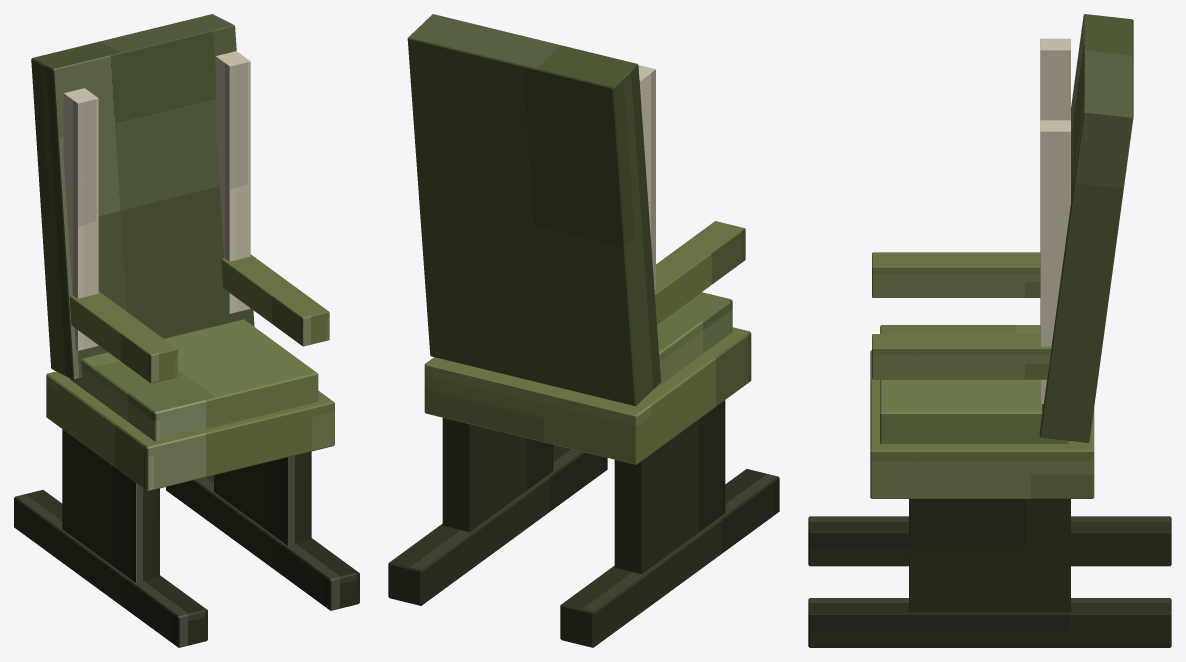
Rendered from mansion_rocking_chair.glb.
3 renders of one model, left to right at view 1: azimuth 30°, elevation 25°; view 2: azimuth 150°, elevation 25°; view 3: azimuth 270°, elevation 25°, orthographic. The views are drawn at different scales.
Parts seen in each view (by area): view 1: ChairBack, SeatCushion, Seat, Leg-0.25, Rocker-0.25, Rocker0.25, BackSlat0.25, BackSlat-0.25, Leg0.25, Arm0.25, Arm-0.25; view 2: ChairBack, Seat, Leg-0.25, Rocker-0.25, Rocker0.25, Leg0.25, Arm-0.25, SeatCushion, BackSlat-0.25; view 3: ChairBack, Leg0.25, Rocker0.25, Seat, SeatCushion, Rocker-0.25, Arm0.25, Arm-0.25, BackSlat0.25, BackSlat-0.25.
Boxes of the visible parts, left/top/right/bottom form: ChairBack: left=31, top=14, right=254, bottom=380; SeatCushion: left=69, top=319, right=318, bottom=441; Seat: left=46, top=371, right=334, bottom=491; Leg-0.25: left=62, top=429, right=159, bottom=582; Rocker-0.25: left=14, top=490, right=207, bottom=647; Rocker0.25: left=166, top=475, right=359, bottom=610; BackSlat0.25: left=215, top=51, right=250, bottom=313; BackSlat-0.25: left=63, top=88, right=98, bottom=350; Leg0.25: left=214, top=451, right=311, bottom=545; Arm0.25: left=221, top=254, right=329, bottom=346; Arm-0.25: left=69, top=291, right=177, bottom=383; ChairBack: left=407, top=14, right=660, bottom=406; Seat: left=424, top=327, right=751, bottom=464; Leg-0.25: left=614, top=400, right=725, bottom=573; Rocker-0.25: left=560, top=469, right=779, bottom=647; Rocker0.25: left=388, top=444, right=607, bottom=605; Leg0.25: left=442, top=418, right=553, bottom=532; Arm-0.25: left=654, top=221, right=745, bottom=324; SeatCushion: left=652, top=292, right=732, bottom=390; BackSlat-0.25: left=638, top=65, right=655, bottom=290; ChairBack: left=1039, top=14, right=1133, bottom=442; Leg0.25: left=909, top=499, right=1070, bottom=611; Rocker0.25: left=808, top=598, right=1171, bottom=647; Seat: left=870, top=350, right=1094, bottom=498; SeatCushion: left=880, top=325, right=1069, bottom=443; Rocker-0.25: left=808, top=516, right=1171, bottom=566; Arm0.25: left=872, top=334, right=1051, bottom=379; Arm-0.25: left=872, top=252, right=1040, bottom=297; BackSlat0.25: left=1040, top=120, right=1070, bottom=404; BackSlat-0.25: left=1040, top=38, right=1070, bottom=120.
Bounding box in the file's own units: 0.62 × 1.53 × 0.94.
Materials: 1 (1 with a texture image).
